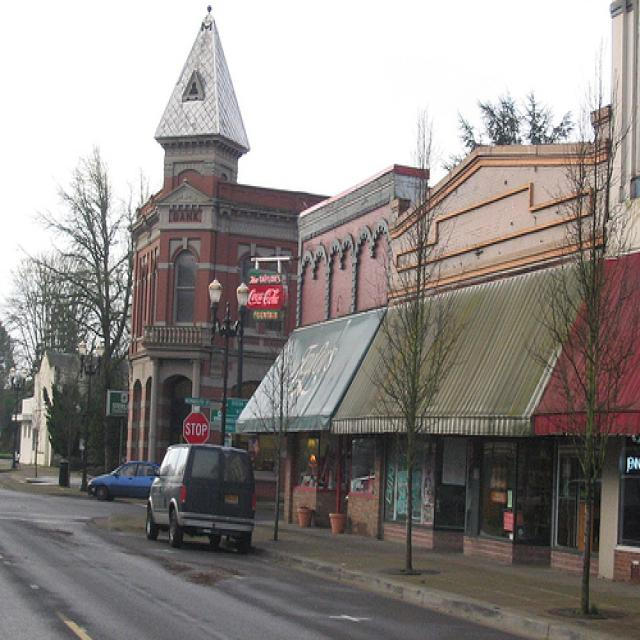car: (143, 438, 258, 554), (83, 455, 156, 503)
